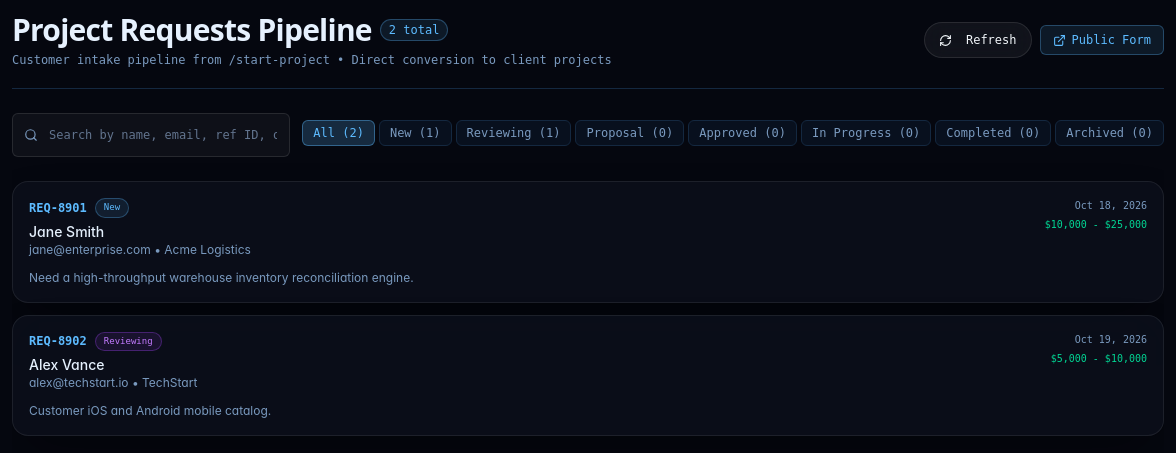
Scenario: AdminRequestsPage Component › filters requests when clicking stage filter buttons
Click on Reviewing stage button
Click the button "Reviewing (1)".
click(514, 133)  # box [456,120,572,146]
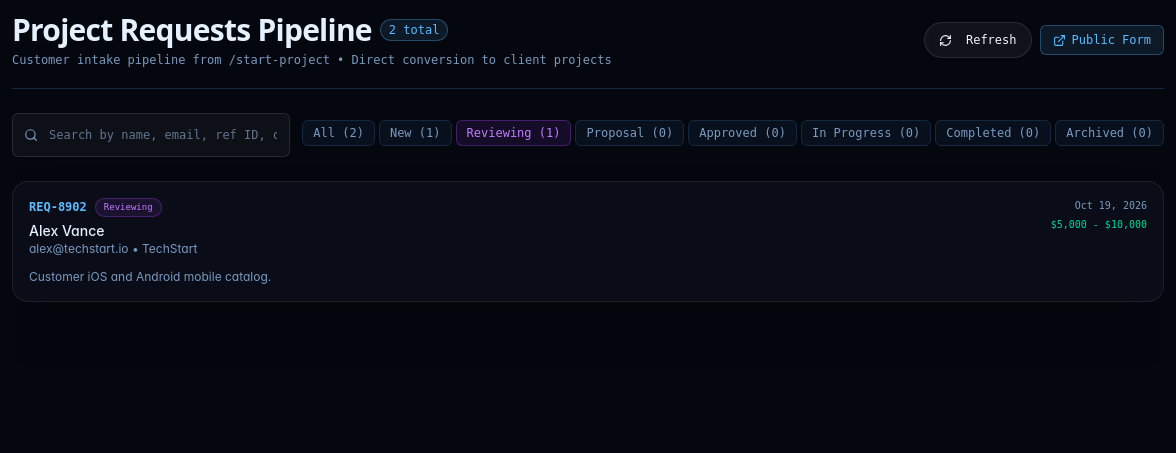
expect the heading "Jane Smith" is gone: met
